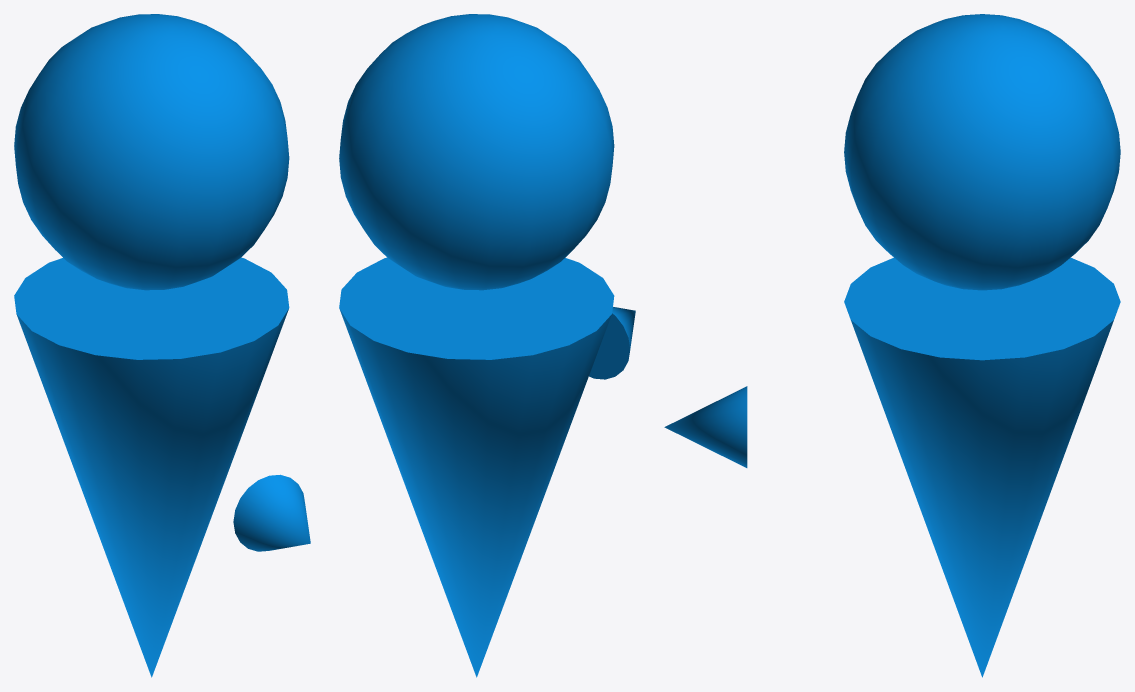
File: player_bule.fbx
3 views of the same model, side by side, from view 1: azimuth 30°, elevation 25°; view 2: azimuth 150°, elevation 25°; view 3: azimuth 270°, elevation 25° (orthographic).
Visible parts, largest first — view 1: pSphere1, pCone1, pCone2; view 2: pSphere1, pCone1, pCone2; view 3: pSphere1, pCone1, pCone2.
Part boxes in pixels (x1=…): pSphere1: x1=14, y1=14, x2=289, y2=290; pCone1: x1=14, y1=257, x2=289, y2=677; pCone2: x1=233, y1=474, x2=310, y2=551; pSphere1: x1=339, y1=14, x2=614, y2=290; pCone1: x1=339, y1=257, x2=614, y2=677; pCone2: x1=589, y1=307, x2=635, y2=379; pSphere1: x1=844, y1=14, x2=1120, y2=290; pCone1: x1=844, y1=257, x2=1120, y2=677; pCone2: x1=664, y1=386, x2=747, y2=467.
Size of the model in its own units: 2 by 5.19 by 3.3.
